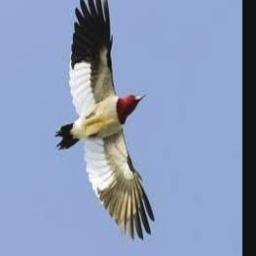Woodpecker: (55, 0, 154, 239)
